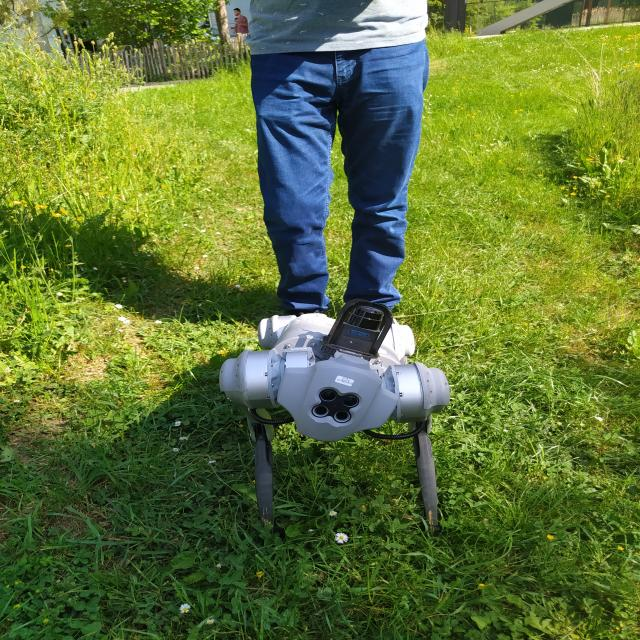unitree-go1-robot: (205, 297, 484, 543)
